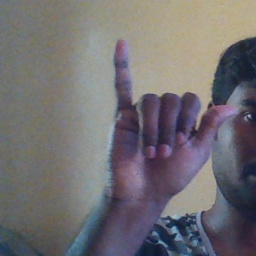J: (98, 36, 239, 195)
